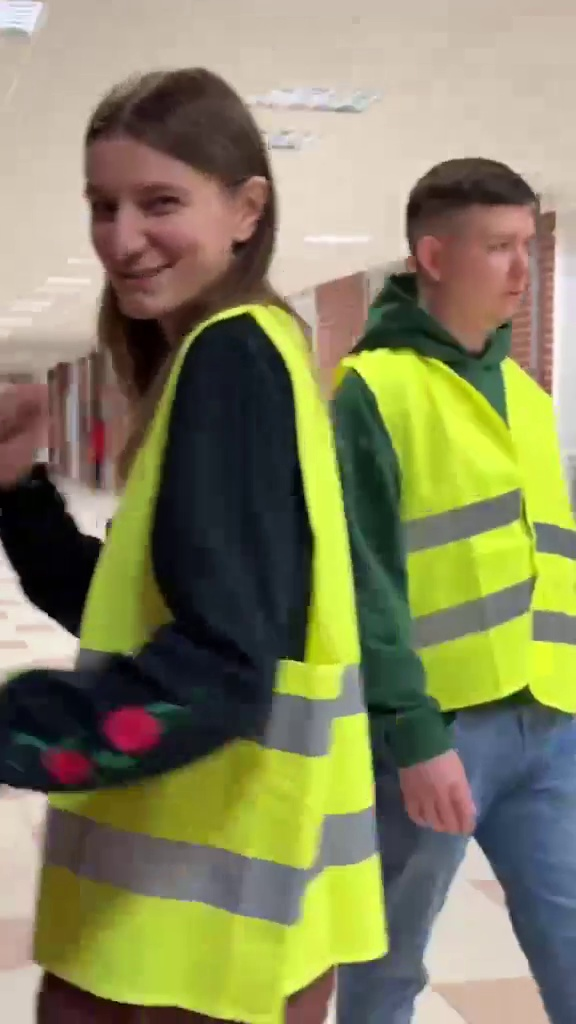vest: (35, 72, 351, 968), (347, 142, 576, 996)
